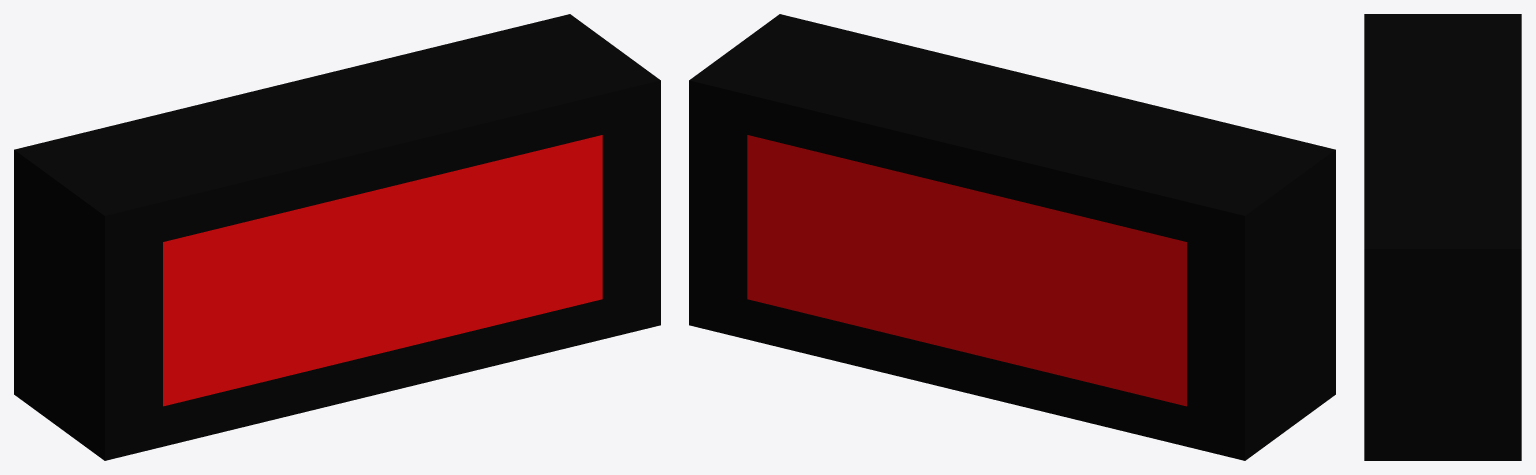
Rendered from negative.fbx.
3 views of the same model, side by side, from view 1: azimuth 30°, elevation 25°; view 2: azimuth 150°, elevation 25°; view 3: azimuth 270°, elevation 25° (orthographic). The views are drawn at different scales.
Visible parts, largest first — view 1: negatif; view 2: negatif; view 3: negatif.
Part boxes in pixels (x1,y1,x2,y2): negatif: (14,14,660,460); negatif: (689,14,1335,460); negatif: (1364,14,1521,460).
Size of the model in its own units: 3.74 by 1.58 by 1.06.
